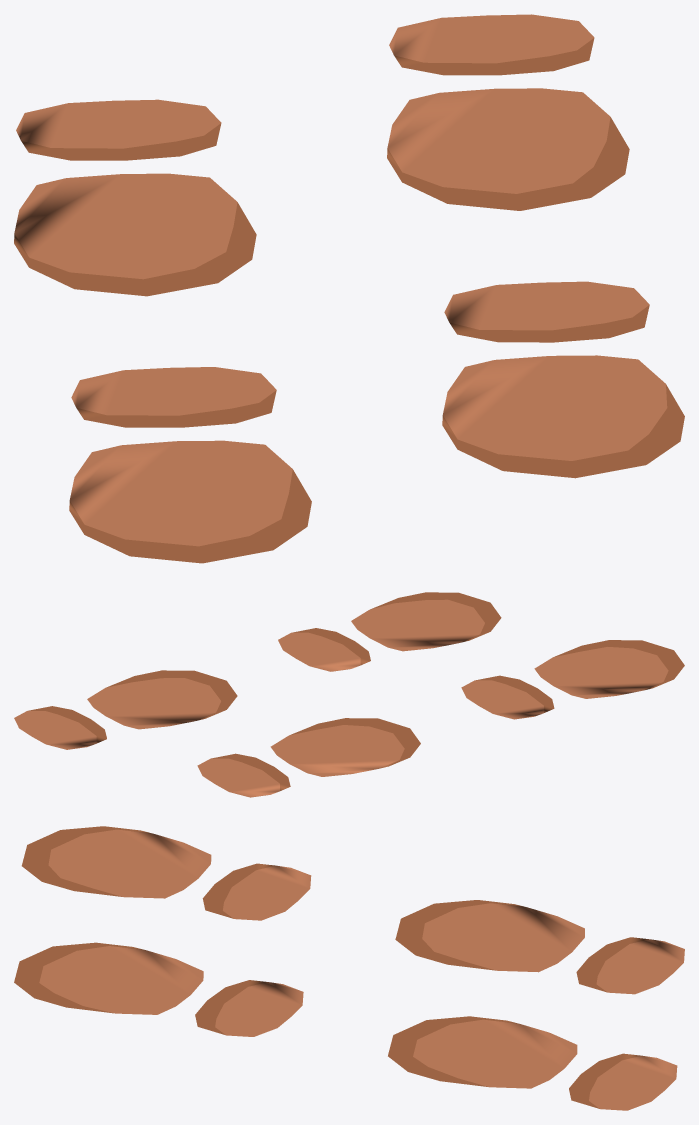
Rendered from NPC_Footprints_006.glb.
3 renders of one model, top to bottom at view 1: azimuth 30°, elevation 25°; view 2: azimuth 150°, elevation 25°; view 3: azimuth 270°, elevation 25°, orthographic. The views are drawn at different scales.
Visible parts, largest first — view 1: NPC_Footprints_006_mesh; view 2: NPC_Footprints_006_mesh; view 3: NPC_Footprints_006_mesh.
Part boxes in pixels (x1,y1,x2,y2): NPC_Footprints_006_mesh: (14,14,684,563); NPC_Footprints_006_mesh: (14,592,684,797); NPC_Footprints_006_mesh: (14,826,684,1110).
Bounding box in the file's own units: 1.43 × 2.36e-07 × 1.42.
Materials: 1 (1 with a texture image).
